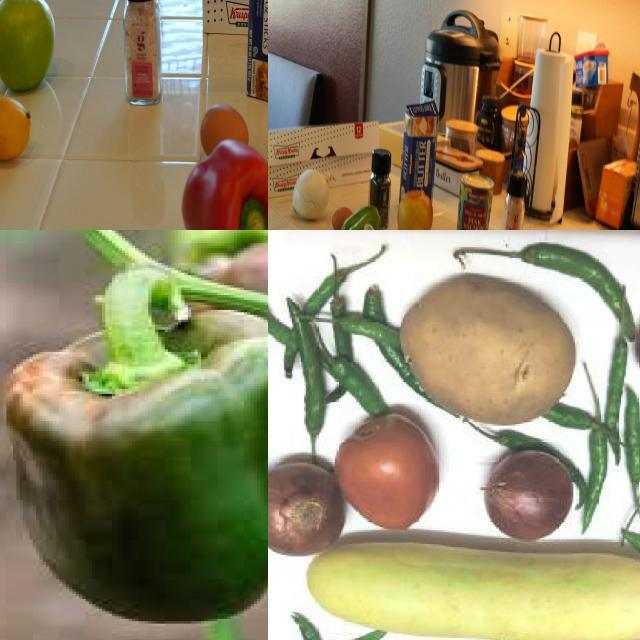bell_pepper: (1, 297, 269, 637), (159, 142, 269, 231), (368, 148, 394, 228), (341, 208, 386, 231)
egg: (199, 106, 258, 154), (334, 197, 354, 231)
onion: (476, 452, 582, 543), (269, 455, 347, 553), (288, 170, 334, 220)
